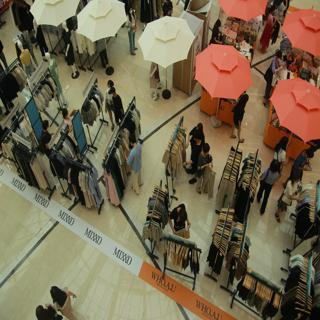person: (43, 277, 82, 319), (102, 74, 121, 115), (190, 117, 204, 167)
